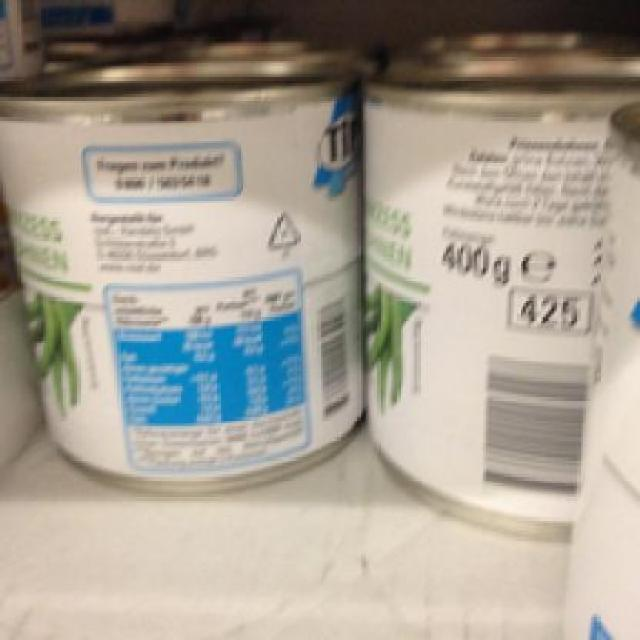Beans: (0, 57, 357, 492), (366, 43, 634, 526)
